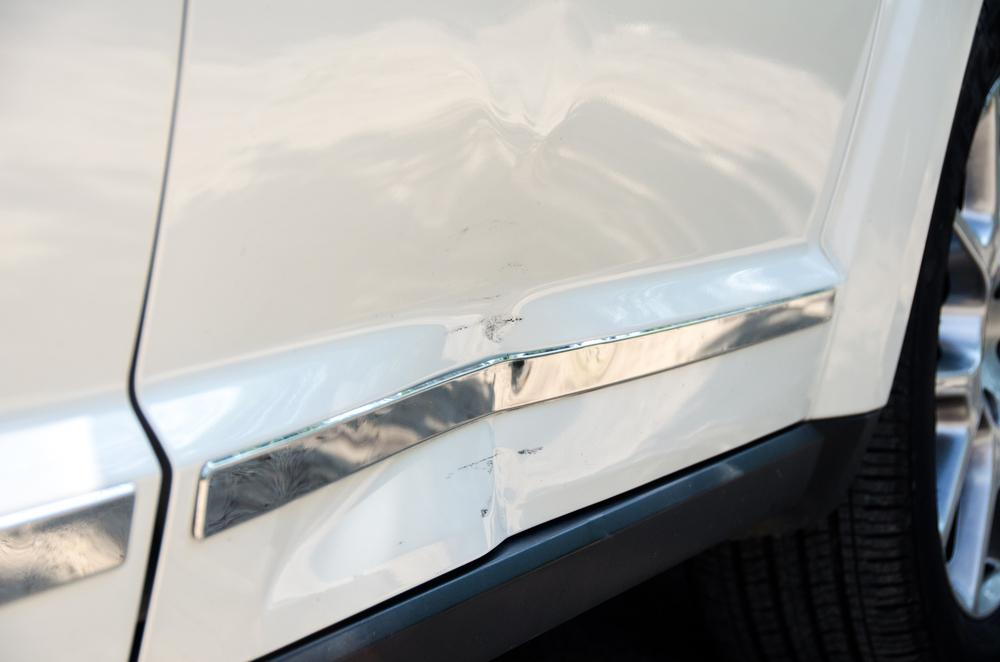dent: (227, 103, 787, 364), (269, 353, 730, 608)
